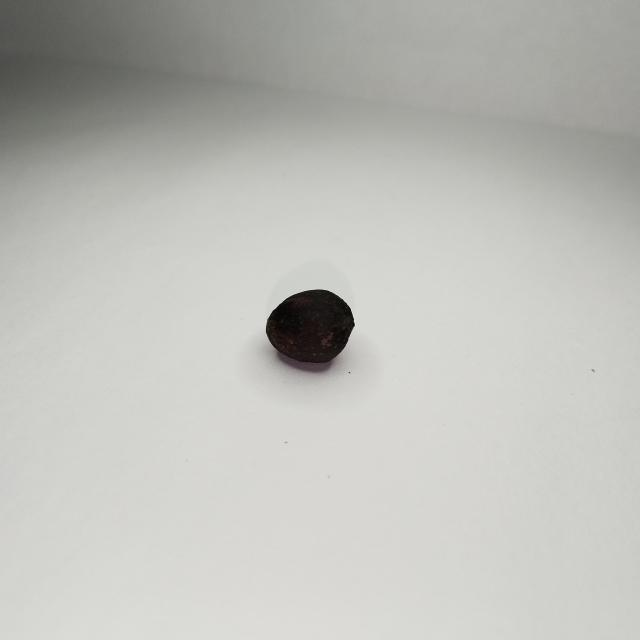Danado: (265, 288, 357, 370)
